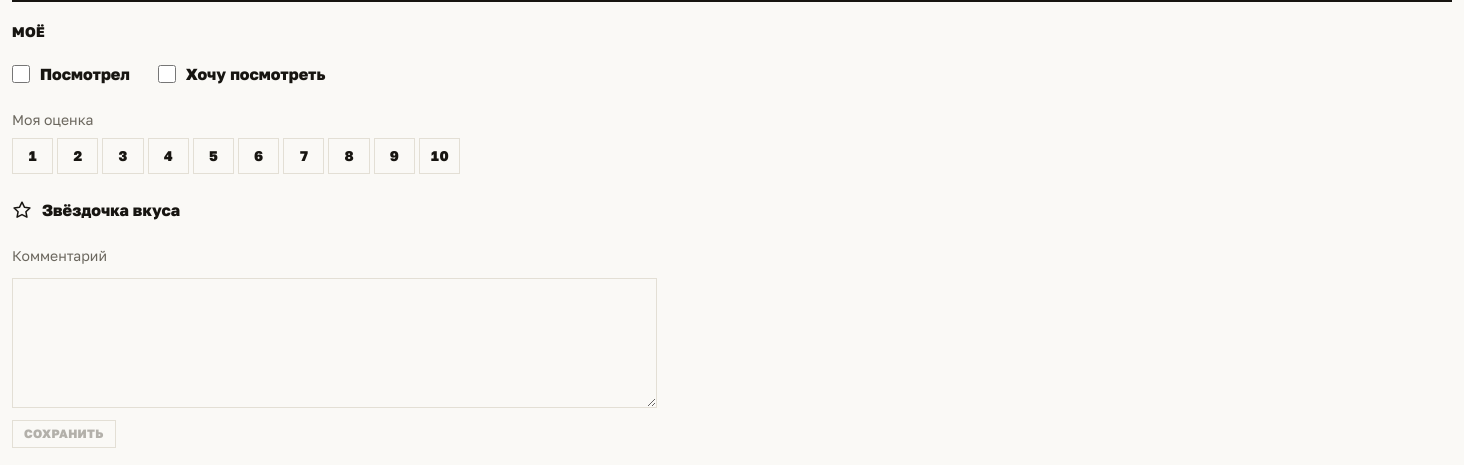
Test case: индикация сохранения и обработка ошибки › при отказе показывается сообщение об ошибке
Click the button "6": (259, 156) [238,138,279,174]
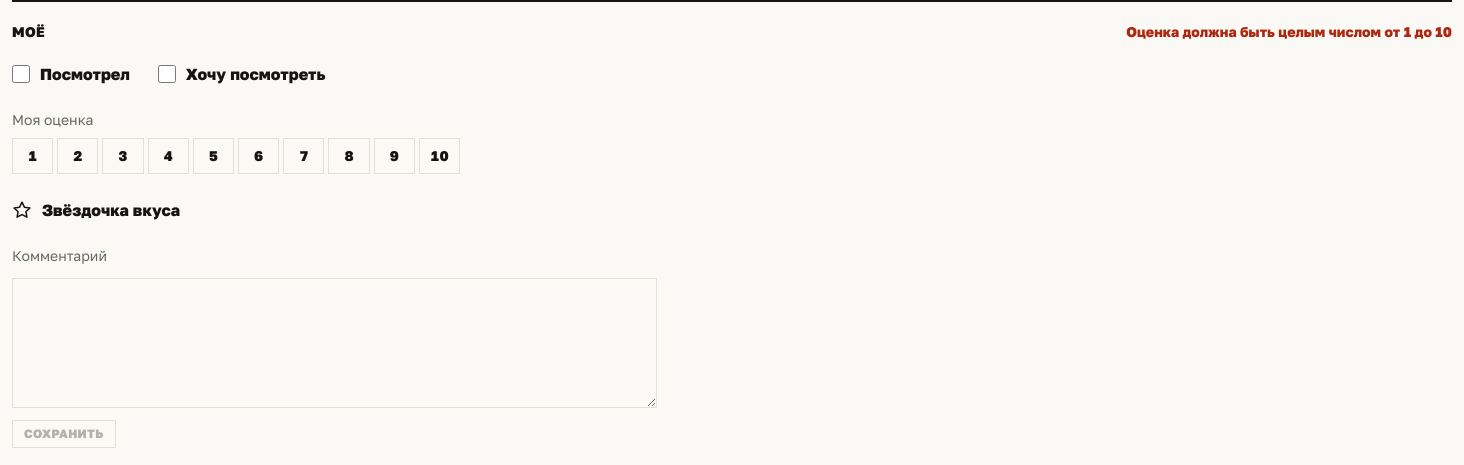
expect the text "Оценка должна быть целым числом от 1 до 10" is shown: met, box [1126,23,1452,40]
